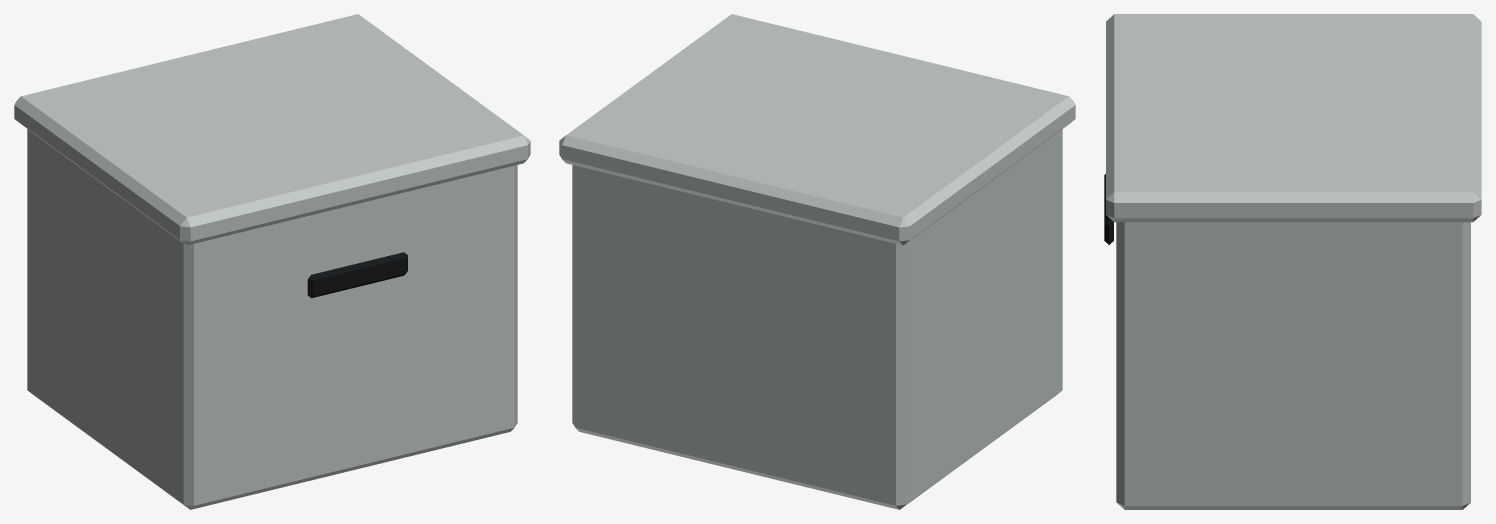
Rendered from ArchiveBox.fbx.
3 views of the same model, side by side, from view 1: azimuth 30°, elevation 25°; view 2: azimuth 150°, elevation 25°; view 3: azimuth 270°, elevation 25° (orthographic). The views are drawn at different scales.
Visible parts, largest first — view 1: ArchiveBox; view 2: ArchiveBox; view 3: ArchiveBox.
Boxes of the visible parts, left/top/right/bottom form: ArchiveBox: left=14, top=14, right=530, bottom=509; ArchiveBox: left=559, top=14, right=1075, bottom=509; ArchiveBox: left=1104, top=14, right=1481, bottom=509.
Size of the model in its own units: 42 by 34.1 by 36.15.
Materials: 1 (1 with a texture image).
